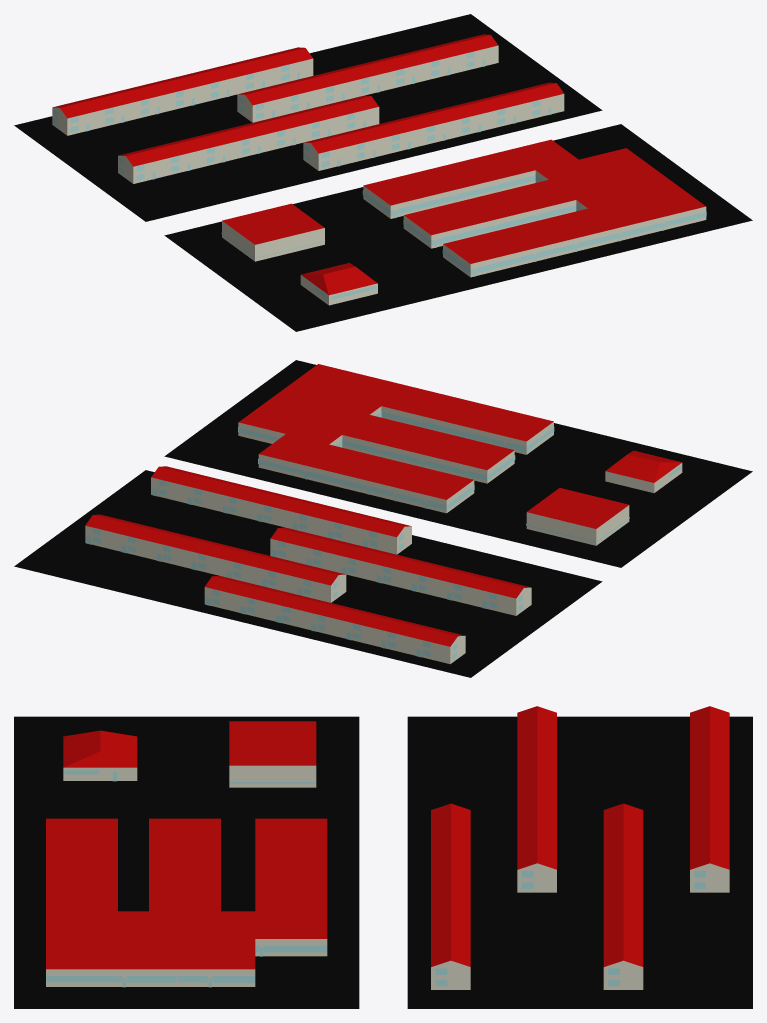
The picture shows the model from 3 angles, top to bottom: view 1: azimuth 30°, elevation 25°; view 2: azimuth 150°, elevation 25°; view 3: azimuth 270°, elevation 25°; orthographic projection. The views are drawn at different scales.
Parts seen in each view (by area): view 1: Ground, Roofs, Walls, Windows; view 2: Ground, Roofs, Walls, Windows; view 3: Ground, Roofs, Walls, Windows.
Part boxes in pixels (<box>): Ground: <box>14,14,752,331</box>; Roofs: <box>53,34,705,295</box>; Walls: <box>52,45,706,305</box>; Windows: <box>53,52,706,299</box>; Ground: <box>14,360,752,677</box>; Roofs: <box>85,364,681,646</box>; Walls: <box>85,406,682,664</box>; Windows: <box>86,411,682,659</box>; Ground: <box>14,716,752,1008</box>; Roofs: <box>46,706,729,969</box>; Walls: <box>46,765,729,989</box>; Windows: <box>46,770,705,987</box>.
Bounding box in the file's own units: 142 × 6.7 × 152.
